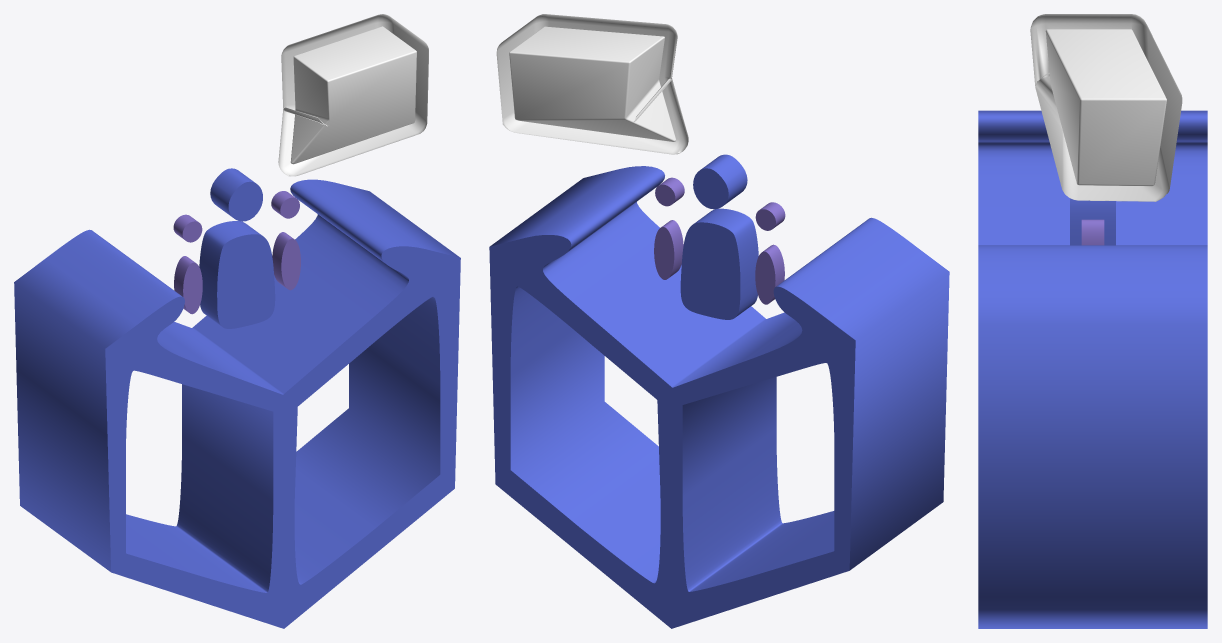
File: techNew.glb
The picture shows the model from 3 angles, left to right: view 1: azimuth 30°, elevation 25°; view 2: azimuth 150°, elevation 25°; view 3: azimuth 270°, elevation 25°; orthographic projection. The views are drawn at different scales.
Visible parts, largest first — view 1: Curve.005, Cube.001, Curve.004, Curve.001, Curve.007, Curve.006; view 2: Curve.005, Cube.001, Curve.004, Curve.001, Curve.007, Curve.006, Curve.002, Curve.003; view 3: Curve.005, Cube.001, Curve.004, Curve.007.
Boxes of the visible parts, bbox=[...] form: Curve.005: bbox=[14, 179, 460, 628]; Cube.001: bbox=[278, 14, 428, 176]; Curve.004: bbox=[199, 221, 275, 328]; Curve.001: bbox=[210, 168, 262, 221]; Curve.007: bbox=[272, 232, 300, 290]; Curve.006: bbox=[174, 256, 202, 314]; Curve.005: bbox=[489, 166, 949, 628]; Cube.001: bbox=[496, 14, 688, 154]; Curve.004: bbox=[680, 208, 758, 319]; Curve.001: bbox=[693, 154, 747, 209]; Curve.007: bbox=[654, 220, 683, 279]; Curve.006: bbox=[755, 244, 784, 304]; Curve.002: bbox=[755, 202, 785, 230]; Curve.003: bbox=[655, 177, 684, 206]; Curve.005: bbox=[978, 110, 1207, 628]; Cube.001: bbox=[1030, 14, 1182, 201]; Curve.004: bbox=[1070, 198, 1115, 245]; Curve.007: bbox=[1081, 219, 1104, 245].
Bounding box in the file's own units: 4.4 × 6.05 × 1.91.
